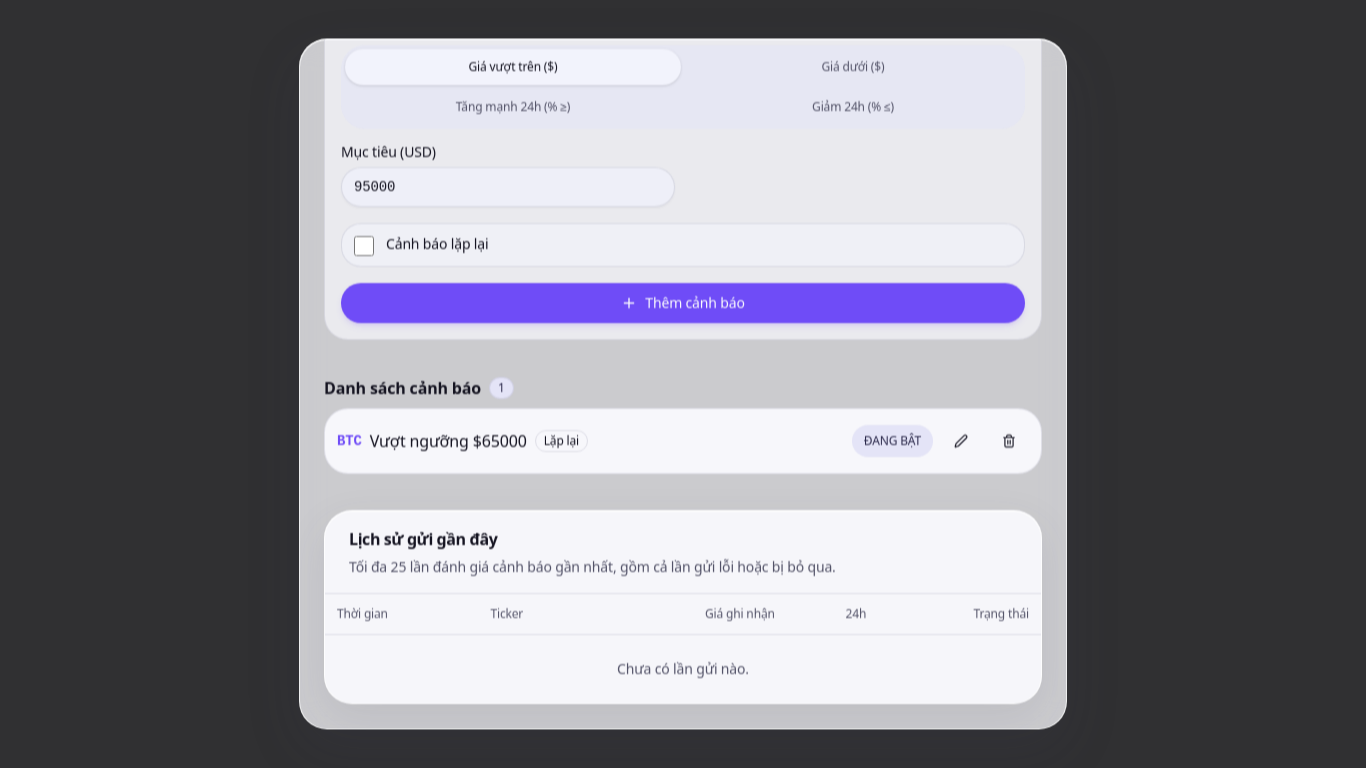
Test: TelegramAlertsModal › shows the server error when deleting a price alert fails
(page scrolled)
Click the button named "Xóa cảnh báo BTC": (1009, 441) [989,421,1029,461]
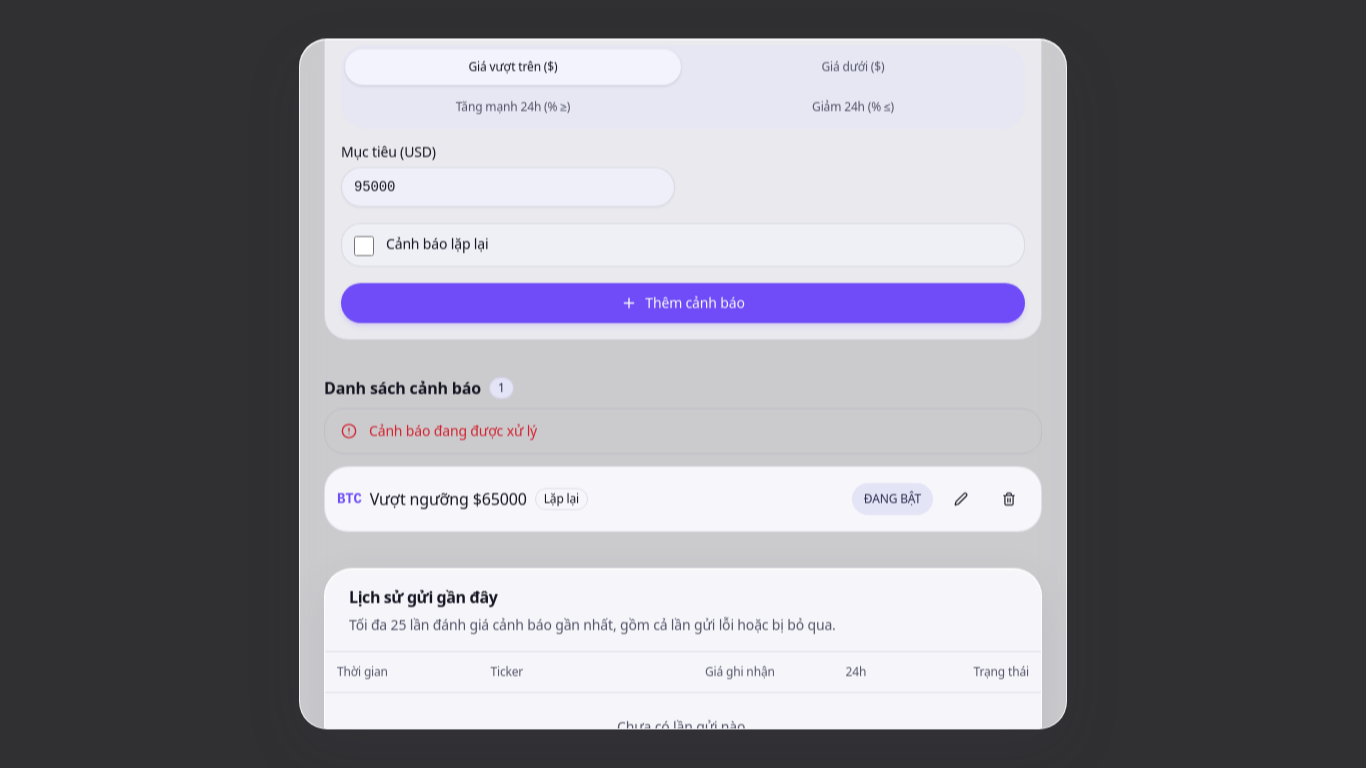
Now the message reads "Cảnh báo đang được xử lý", box [369,421,537,440]
